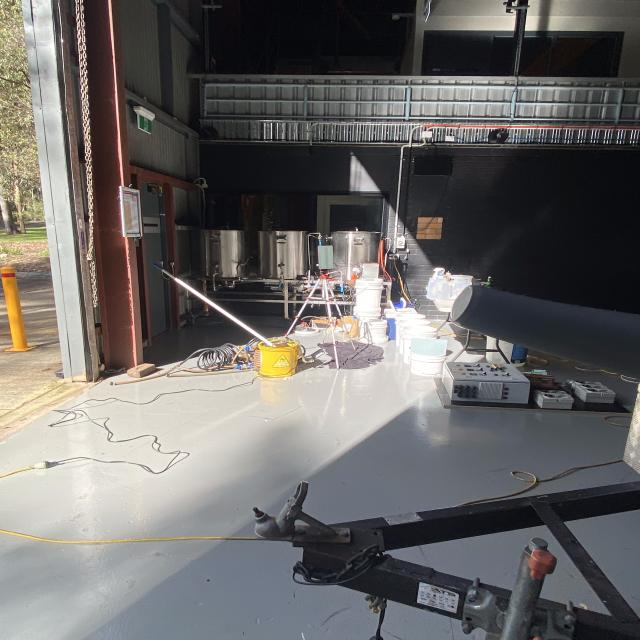matrix: (310, 244, 344, 277)
